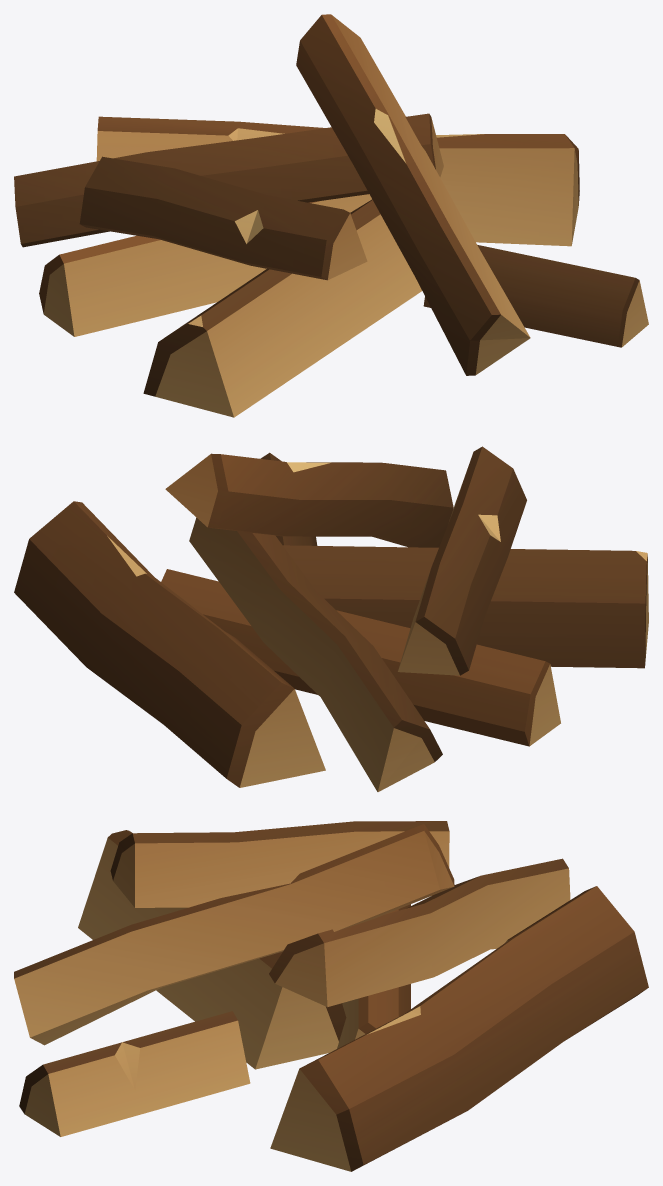
The model's file is CutedWood_1_A.glb.
3 views of the same model, one above another, from view 1: azimuth 30°, elevation 25°; view 2: azimuth 150°, elevation 25°; view 3: azimuth 270°, elevation 25° (orthographic). The views are drawn at different scales.
Visible parts, largest first — view 1: CutedWood_1_A; view 2: CutedWood_1_A; view 3: CutedWood_1_A.
Part boxes in pixels (bbox=[...]): CutedWood_1_A: bbox=[14, 14, 648, 417]; CutedWood_1_A: bbox=[14, 446, 648, 791]; CutedWood_1_A: bbox=[14, 821, 648, 1171].
Size of the model in its own units: 0.6294 by 0.2554 by 0.6257.
Materials: 1 (1 with a texture image).
